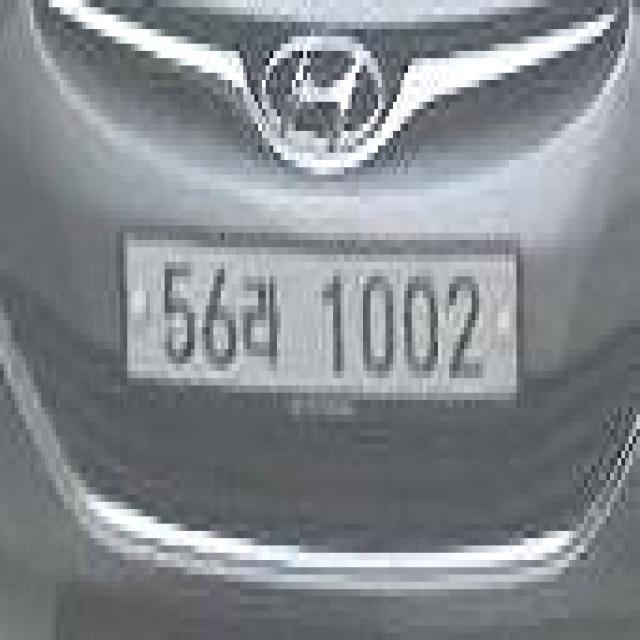illegal_plate: (119, 219, 526, 432)
